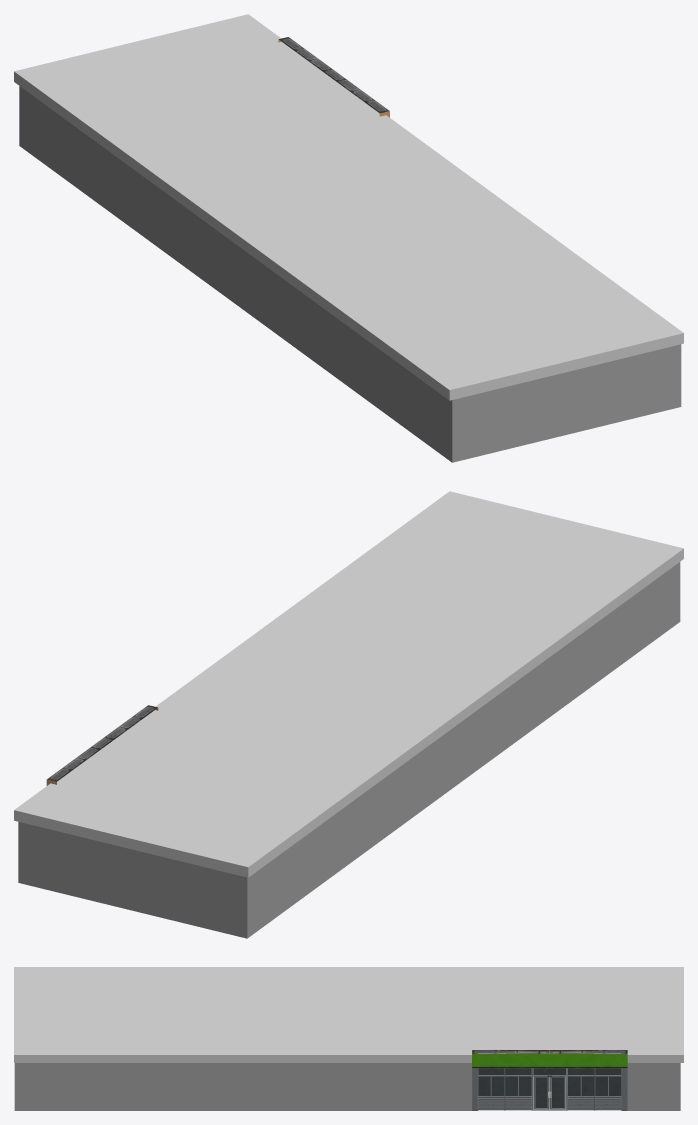
File: Store_1.fbx
The picture shows the model from 3 angles, top to bottom: view 1: azimuth 30°, elevation 25°; view 2: azimuth 150°, elevation 25°; view 3: azimuth 270°, elevation 25°; orthographic projection. The views are drawn at different scales.
Parts seen in each view (by area): view 1: Ceiling, Wall_11, Store_Section01; view 2: Ceiling, Wall_11, Store_Section01; view 3: Ceiling, Wall_11, Store_Section01, Store_Door00_L, Store_Door00_R.
Boxes of the visible parts, bbox=[...] form: Ceiling: bbox=[14, 14, 683, 400]; Wall_11: bbox=[19, 86, 681, 462]; Store_Section01: bbox=[278, 37, 389, 117]; Ceiling: bbox=[14, 491, 683, 877]; Wall_11: bbox=[18, 562, 680, 938]; Store_Section01: bbox=[46, 705, 158, 785]; Ceiling: bbox=[14, 967, 683, 1062]; Wall_11: bbox=[14, 1063, 680, 1110]; Store_Section01: bbox=[472, 1050, 627, 1110]; Store_Door00_L: bbox=[550, 1076, 565, 1109]; Store_Door00_R: bbox=[534, 1076, 549, 1109].
Size of the model in its own units: 1526 by 471 by 4837.
